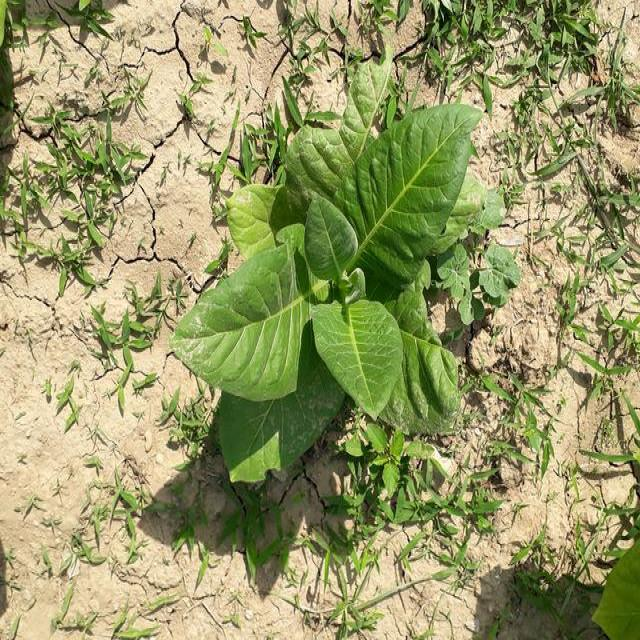crop: (182, 127, 492, 471)
